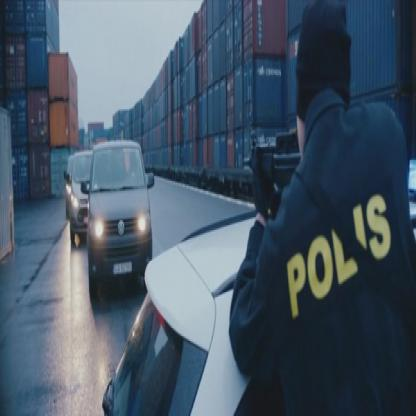Guns: (238, 120, 306, 236)
